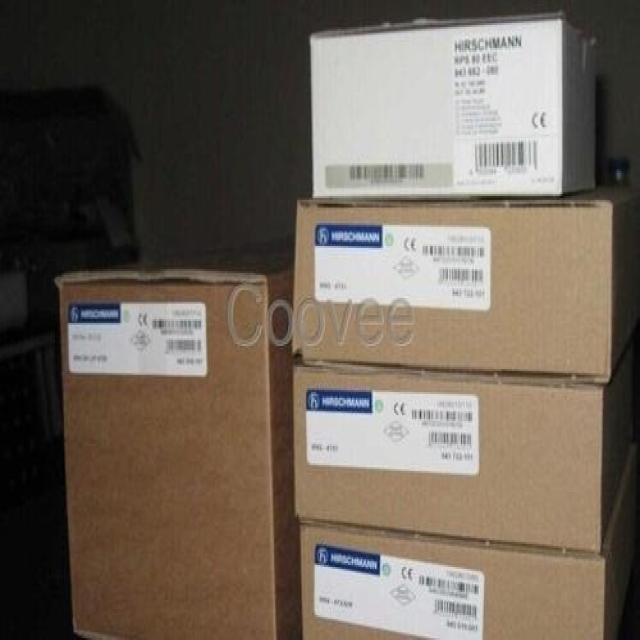box: (58, 261, 300, 640), (293, 185, 632, 384), (293, 363, 602, 552), (308, 15, 596, 198), (301, 525, 605, 640)
